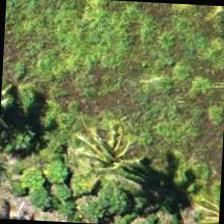Kelapa_Sawit: (48, 114, 143, 208)
